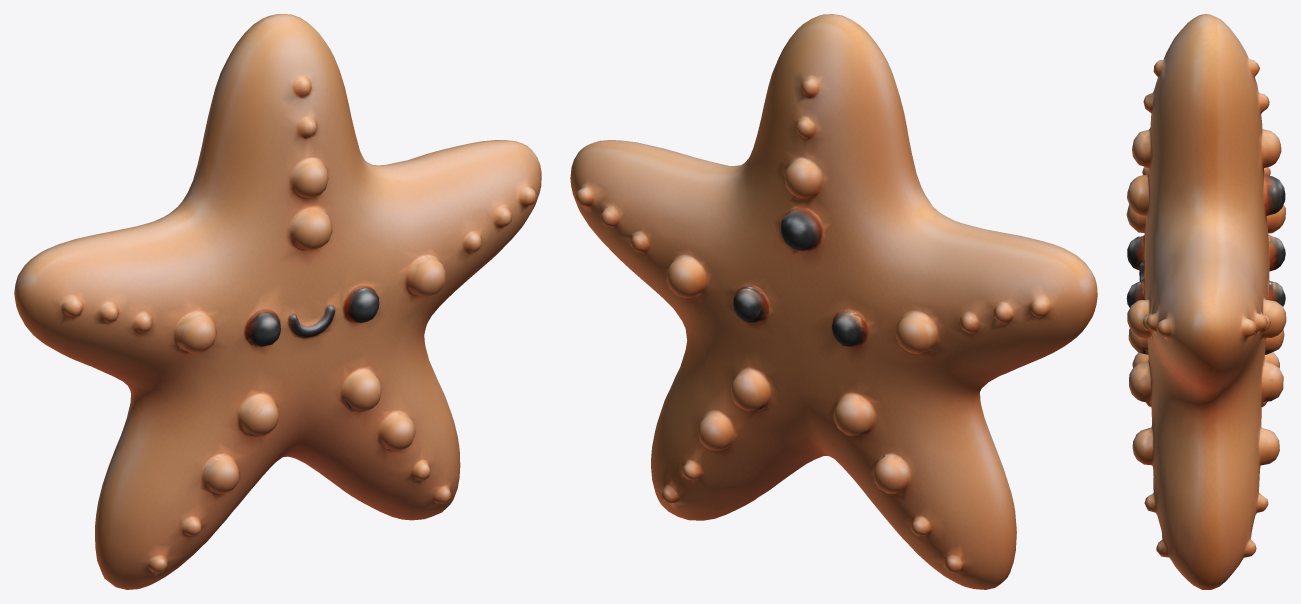
File: sample-Cv4ZH8D0.glb
The picture shows the model from 3 angles, left to right: view 1: azimuth 30°, elevation 25°; view 2: azimuth 150°, elevation 25°; view 3: azimuth 270°, elevation 25°; orthographic projection. The views are drawn at different scales.
Visible parts, largest first — view 1: material_0; view 2: material_0; view 3: material_0.
Boxes of the visible parts, x1=… form: material_0: x1=14, y1=14, x2=541, y2=589; material_0: x1=570, y1=14, x2=1097, y2=589; material_0: x1=1126, y1=14, x2=1286, y2=589.
Size of the model in its own units: 1 by 0.9838 by 0.2839.
1 material, 1 textured.
